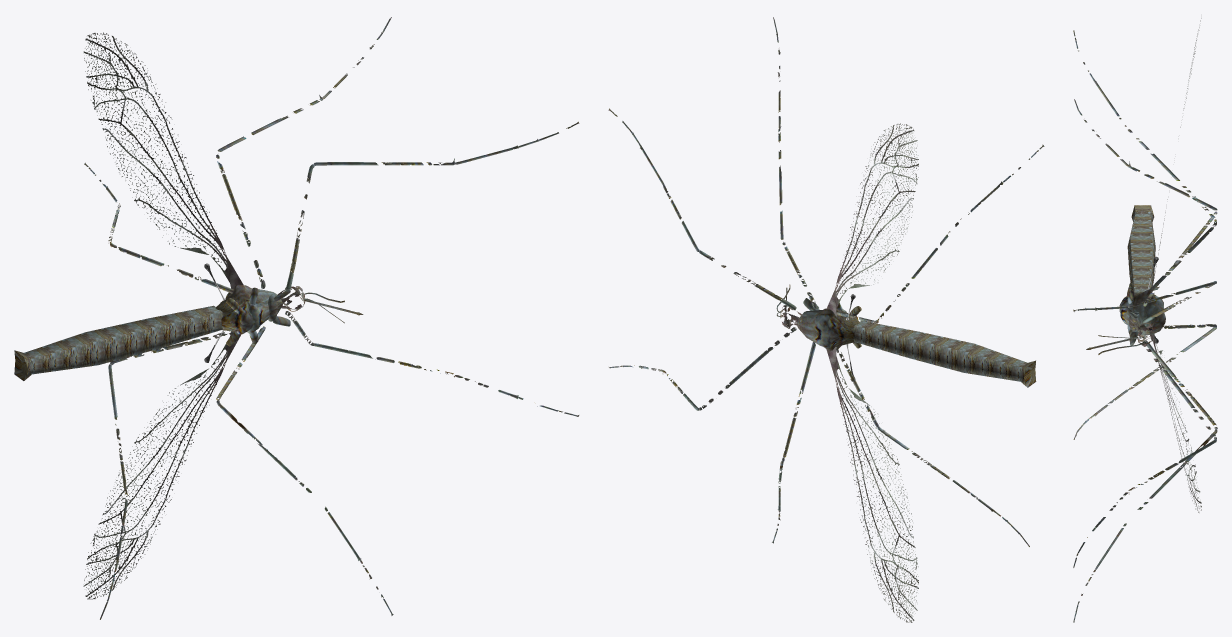
File: Mosquito.FBX
The picture shows the model from 3 angles, left to right: view 1: azimuth 30°, elevation 25°; view 2: azimuth 150°, elevation 25°; view 3: azimuth 270°, elevation 25°; orthographic projection. The views are drawn at different scales.
Parts seen in each view (by area): view 1: MOSQCUL; view 2: MOSQCUL; view 3: MOSQCUL.
Part boxes in pixels (bbox=[...]): MOSQCUL: bbox=[14, 17, 579, 619]; MOSQCUL: bbox=[608, 17, 1044, 622]; MOSQCUL: bbox=[1073, 18, 1217, 622].
Size of the model in its own units: 8670 by 9575 by 2379.
Materials: 5 (5 with a texture image).
